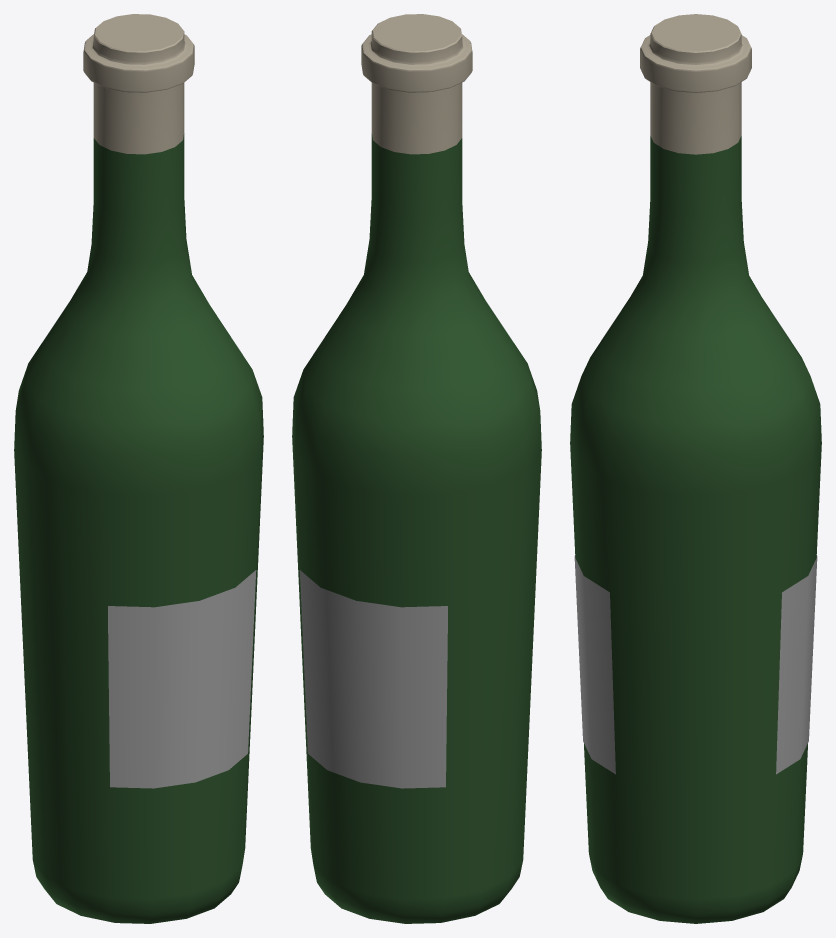
Rendered from Bottle_Model.fbx.
The picture shows the model from 3 angles, left to right: view 1: azimuth 30°, elevation 25°; view 2: azimuth 150°, elevation 25°; view 3: azimuth 270°, elevation 25°; orthographic projection.
Parts seen in each view (by area): view 1: Bottle; view 2: Bottle; view 3: Bottle.
Boxes of the visible parts, x1,y1,x2,y2 form: Bottle: [14, 14, 263, 923]; Bottle: [292, 14, 541, 923]; Bottle: [570, 14, 821, 923].
Size of the model in its own units: 9.6 by 36 by 9.6.
